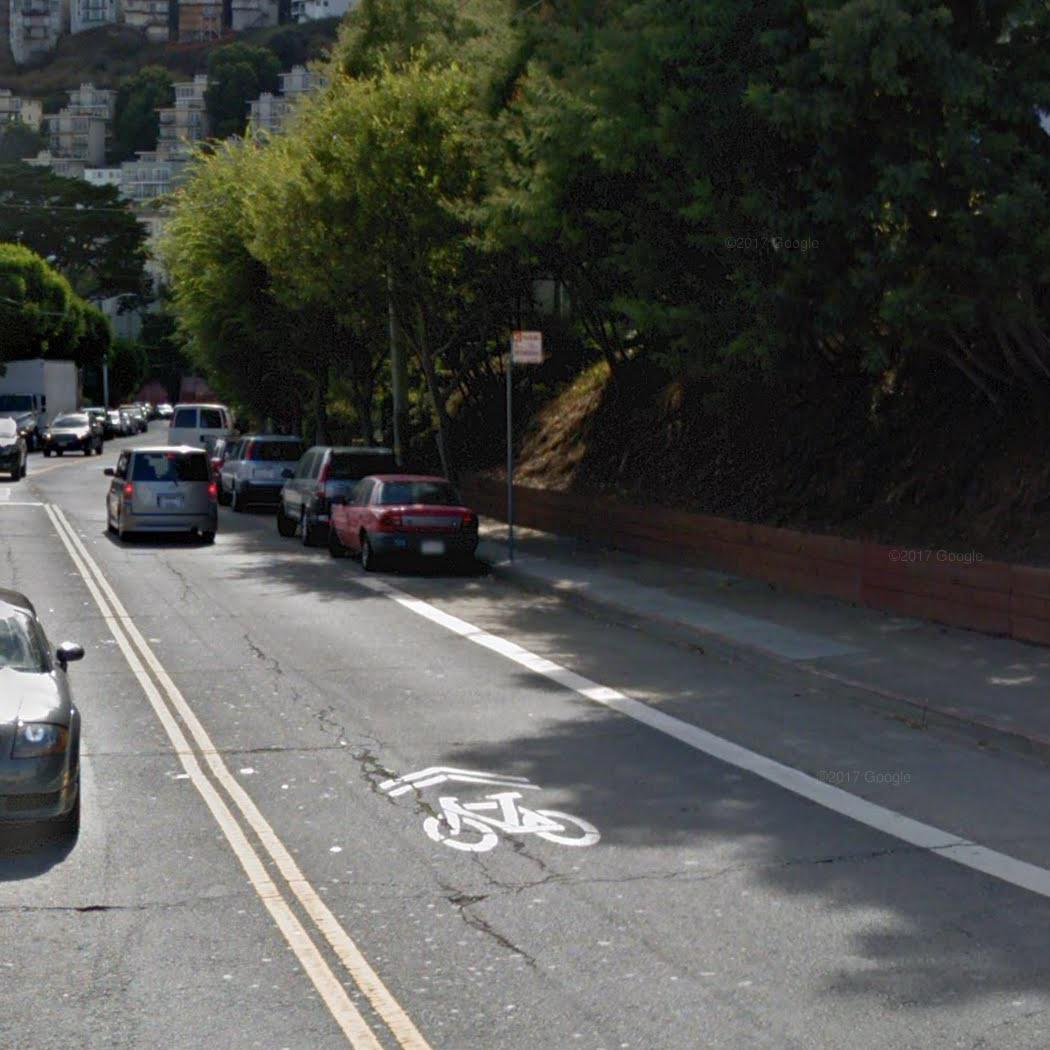No Parking: (509, 330, 545, 365)
